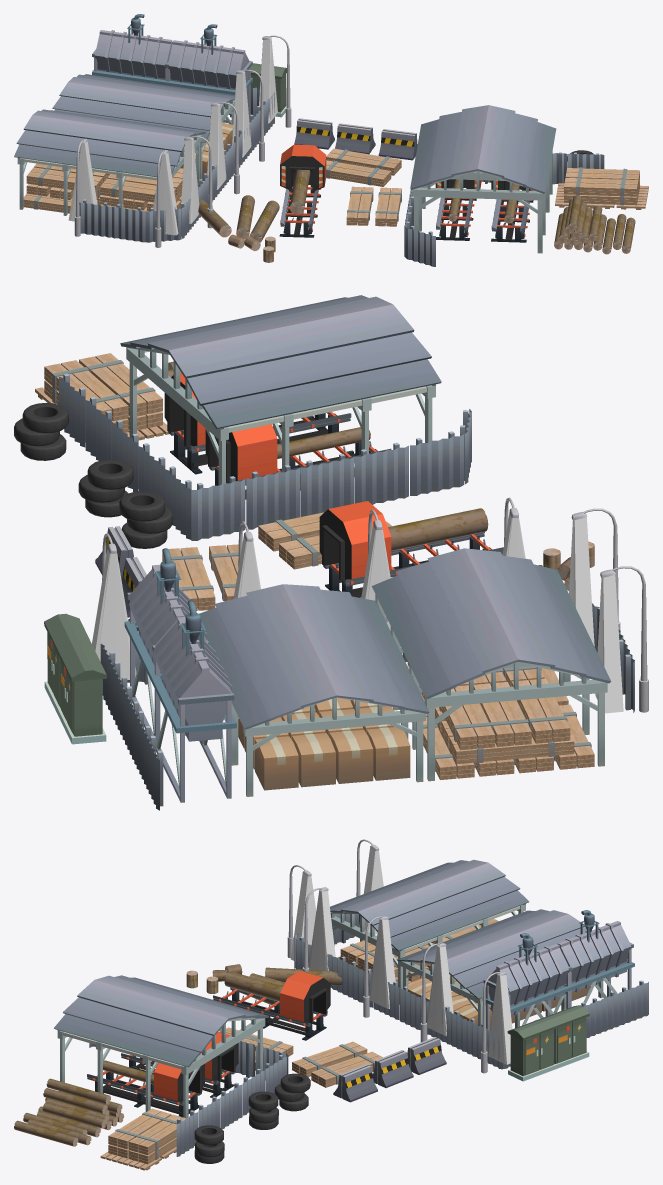
3 views of the same model, one above another, from view 1: azimuth 30°, elevation 25°; view 2: azimuth 150°, elevation 25°; view 3: azimuth 270°, elevation 25° (orthographic). The views are drawn at different scales.
Visible parts, largest first — view 1: Plane_004, Plane_004_1, Plane_004_2, Cube_004_4, Cube_004_5, Cube_008, Cube_004, FX_Lamp_1, Cube_004_3, Plane_001_25, Plane_001_26, FX_Lamp_2 (+27 smaller); view 2: Plane_004, Plane_004_1, Plane_004_2, Cube_004_5, Cube_004_4, electricalpanel, Cube_008, FX_Lamp_4, Plane_001, Plane_001_4, Cube_008_3, Plane_001_1 (+42 smaller); view 3: Plane_004, Plane_004_1, Plane_004_2, Cube_004_4, Cube_004_5, electricalpanel_1, Cube_008, electricalpanel, Cube_004, FX_Lamp_4, Cube_004_1, FX_Lamp_3 (+38 smaller).
Part boxes in pixels (x1,y1,x2,y2): Plane_004: (410,105,556,253); Plane_004_1: (14,109,205,215); Plane_004_2: (52,74,235,179); Cube_004_4: (164,24,252,124); Cube_004_5: (92,14,172,85); Cube_008: (280,144,326,192); Cube_004: (279,184,320,237); FX_Lamp_1: (153,152,178,235); Cube_004_3: (436,187,476,240); Plane_001_25: (112,204,145,242); Plane_001_26: (79,199,111,237); FX_Lamp_2: (181,139,199,223); Plane_004: (120,295,441,485); Plane_004_1: (371,548,611,781); Plane_004_2: (199,584,429,796); Cube_004_5: (151,600,236,802); Cube_004_4: (124,548,208,745); electricalpanel: (57,641,106,744); Cube_008: (319,501,391,580); FX_Lamp_4: (92,548,136,680); Plane_001: (191,476,245,540); Plane_001_4: (410,431,463,495); Cube_008_3: (205,424,277,482); Plane_001_1: (246,465,300,529); Plane_004: (54,975,268,1118); Plane_004_1: (330,859,529,1004); Plane_004_2: (397,909,603,1027); Cube_004_4: (482,933,573,1030); Cube_004_5: (549,910,634,1015); electricalpanel_1: (507,1017,557,1081); Cube_008: (280,971,330,1023); electricalpanel: (541,1005,589,1068); Cube_004: (213,987,327,1040); FX_Lamp_4: (487,974,512,1064); Cube_004_1: (87,1071,200,1117); FX_Lamp_3: (369,919,395,1008).
Bounding box in the file's own units: 1897 × 377 × 1981.
